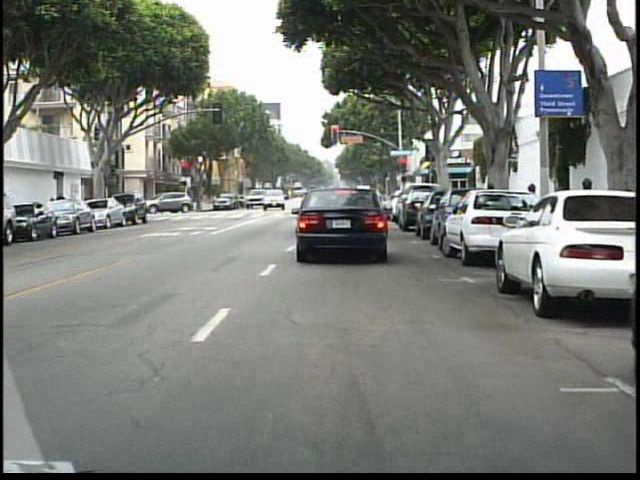person: (52, 187, 70, 225), (153, 190, 168, 218)
